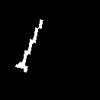half_double_crochet: (16, 20, 42, 71)
